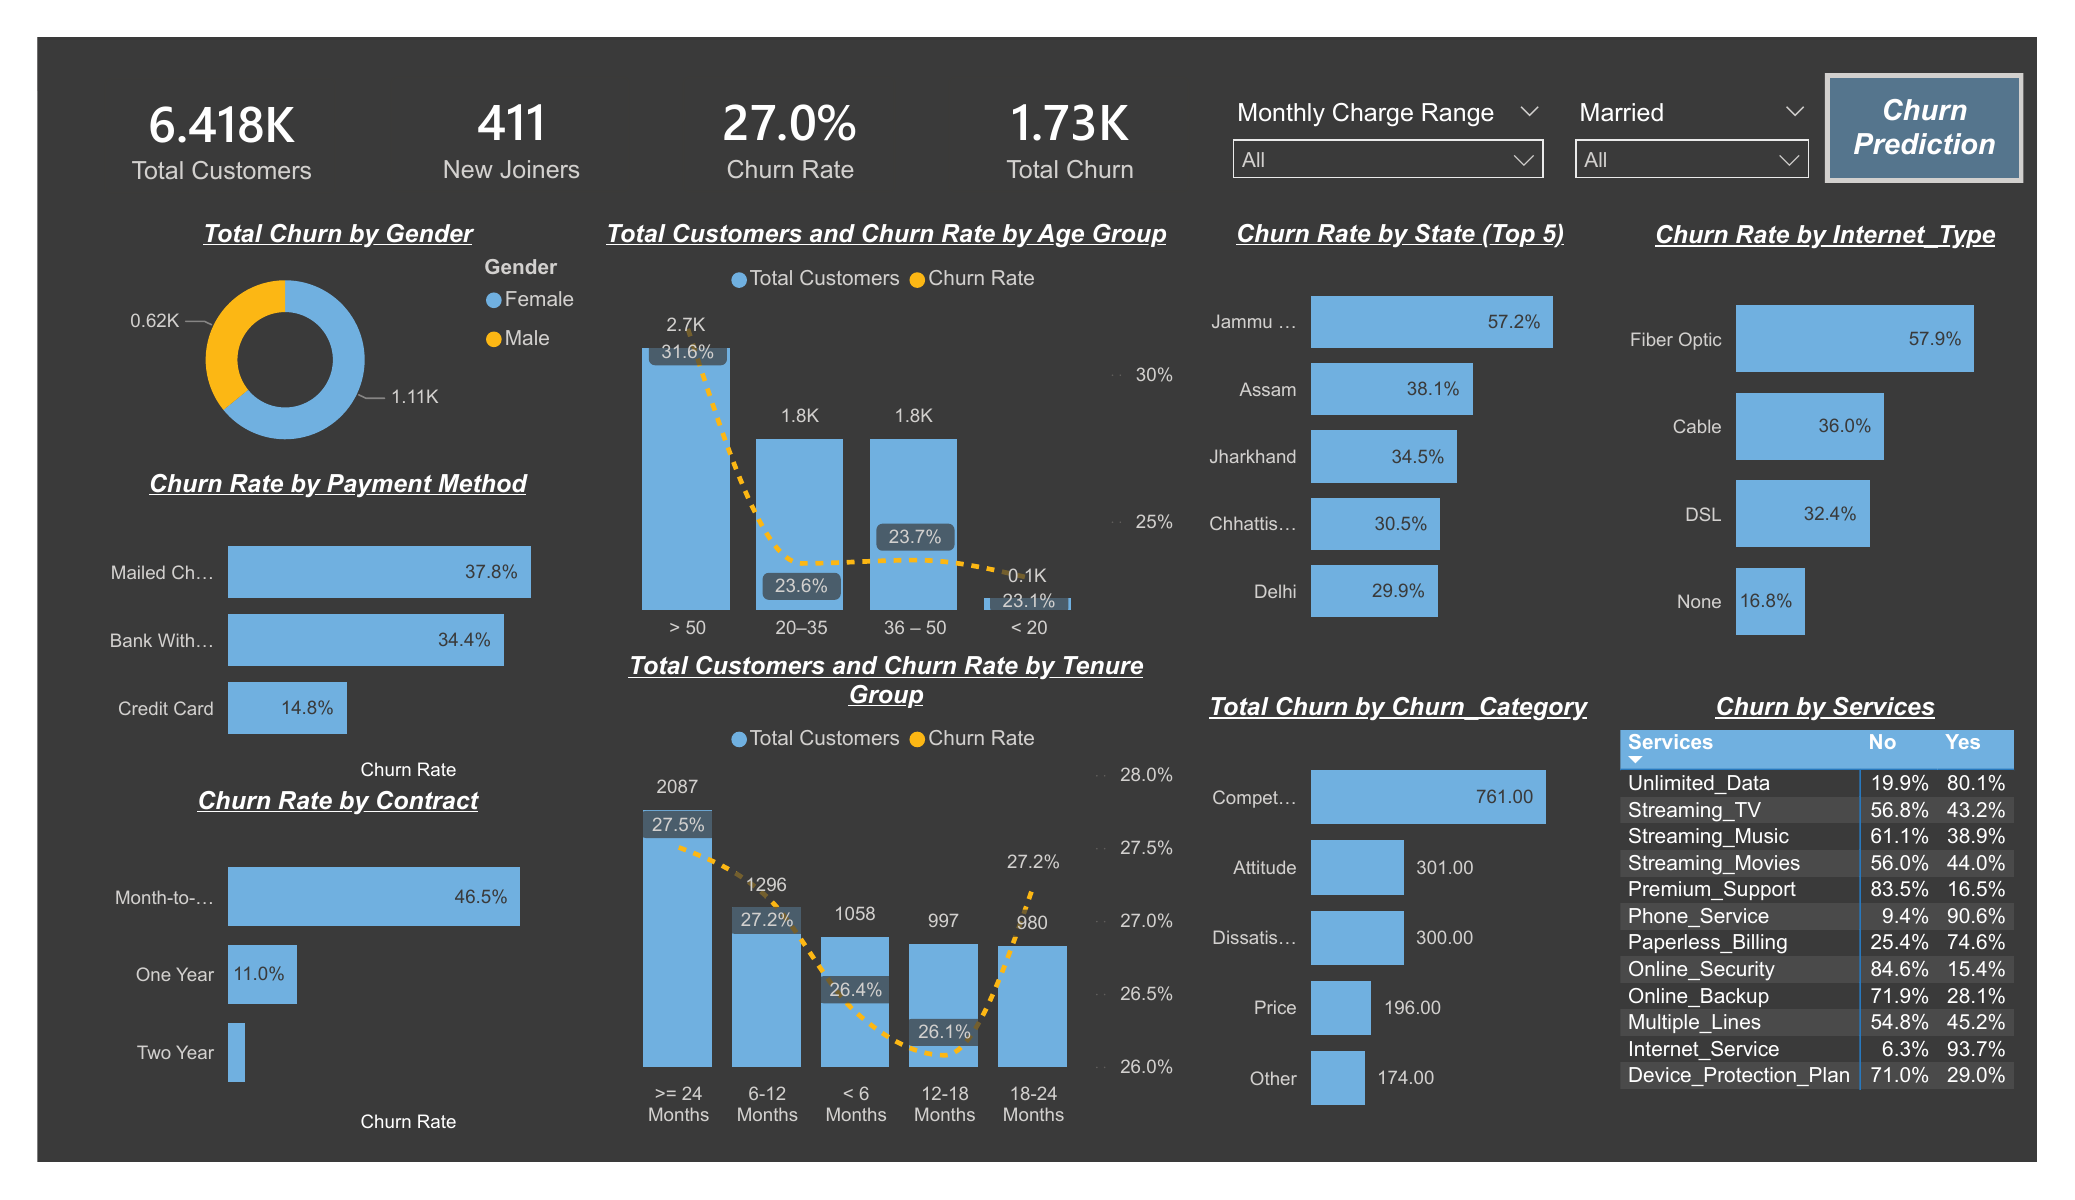

This screenshot's page, from the dashboard's own definition file:
{"tool":"powerbi","page":{"name":"Churn Analysis","canvas":[1280,720],"ordinal":0},"visuals":[{"type":"cardVisual","fields":{"Data":["Measures (2).Total Customers"]},"box":[26.2,8.8,182.5,108.8],"z":1000},{"type":"cardVisual","fields":{"Data":["Measures (2).New Joiners"]},"box":[208.8,7.5,187.5,108.8],"z":2000},{"type":"cardVisual","fields":{"Data":["Measures (2).Churn Rate"]},"box":[396.2,7.5,170,108.8],"z":3000},{"type":"cardVisual","fields":{"Data":["Measures (2).Total Churn"]},"box":[566.2,7.5,188.8,108.8],"z":4000},{"type":"donutChart","fields":{"Category":["prod_Churn.Gender"],"Y":["Measures (2).Total Churn"]},"box":[26.4,116.9,331.3,160.5],"z":5000},{"type":"lineStackedColumnComboChart","fields":{"Category":["mapping_AgeGrp.Age Group "],"Y":["Measures (2).Total Customers"],"Y2":["Measures (2).Churn Rate"]},"box":[353.1,116.9,379.5,277.4],"z":6000},{"type":"clusteredBarChart","title":"Churn Rate by Payment Method","fields":{"Category":["prod_Churn.Payment_Method"],"Y":["Measures (2).Churn Rate"]},"box":[26.4,277.4,331.3,202.9],"z":7000},{"type":"clusteredBarChart","fields":{"Y":["Measures (2).Churn Rate"],"Category":["prod_Churn.Contract"]},"box":[26.4,480.4,331.3,224.7],"z":8000},{"type":"lineStackedColumnComboChart","fields":{"Y":["Measures (2).Total Customers"],"Y2":["Measures (2).Churn Rate"],"Category":["mapping_TenureGrp.Tenure Group "]},"box":[353.1,394.4,379.5,310.7],"z":9000},{"type":"clusteredBarChart","title":"Churn Rate by State (Top 5)","fields":{"Y":["Measures (2).Churn Rate"],"Category":["prod_Churn.State"]},"box":[732.6,116.9,278.6,277.4],"z":10000},{"type":"clusteredBarChart","fields":{"Category":["prod_Churn.Churn_Category"],"Y":["Measures (2).Total Churn"]},"box":[732.6,419.6,275.1,287.8],"z":11000},{"type":"pivotTable","title":"Churn by Services","fields":{"Rows":["prod_Services.Services"],"Columns":["prod_Services.Status"],"Values":["Sum(prod_Services.Churn Status)"]},"box":[1007.5,420,272.5,278.8],"z":12000},{"type":"clusteredBarChart","fields":{"Y":["Measures (2).Churn Rate"],"Category":["prod_Churn.Internet_Type"]},"box":[1007.5,117.5,272.5,293.8],"z":13000},{"type":"slicer","fields":{"Values":["prod_Churn.Monthly Charge Status"]},"box":[755,35,218.8,57.5],"z":14000},{"type":"slicer","fields":{"Values":["prod_Churn.Married"]},"box":[973.8,35,170,57.5],"z":15000},{"type":"actionButton","box":[1143.8,22.5,127.5,70],"z":15001}]}

Visuals, with their boxes on the page's 1280x720 design canvas (x1, y1, x2, y2). These are canvas units, not pixel positions in the 2075x1200 screenshot, which may show the page scaled, cropped or inside an application window:
cardVisual - Measures (2).Total Customers: [x1=26, y1=9, x2=209, y2=118]
cardVisual - Measures (2).New Joiners: [x1=209, y1=8, x2=396, y2=116]
cardVisual - Measures (2).Churn Rate: [x1=396, y1=8, x2=566, y2=116]
cardVisual - Measures (2).Total Churn: [x1=566, y1=8, x2=755, y2=116]
donutChart - prod_Churn.Gender x Measures (2).Total Churn: [x1=26, y1=117, x2=358, y2=277]
lineStackedColumnComboChart - mapping_AgeGrp.Age Group  x Measures (2).Total Customers: [x1=353, y1=117, x2=733, y2=394]
"Churn Rate by Payment Method" clusteredBarChart: [x1=26, y1=277, x2=358, y2=480]
clusteredBarChart - Measures (2).Churn Rate x prod_Churn.Contract: [x1=26, y1=480, x2=358, y2=705]
lineStackedColumnComboChart - Measures (2).Total Customers x Measures (2).Churn Rate: [x1=353, y1=394, x2=733, y2=705]
"Churn Rate by State (Top 5)" clusteredBarChart: [x1=733, y1=117, x2=1011, y2=394]
clusteredBarChart - prod_Churn.Churn_Category x Measures (2).Total Churn: [x1=733, y1=420, x2=1008, y2=707]
"Churn by Services" pivotTable: [x1=1008, y1=420, x2=1280, y2=699]
clusteredBarChart - Measures (2).Churn Rate x prod_Churn.Internet_Type: [x1=1008, y1=118, x2=1280, y2=411]
slicer - prod_Churn.Monthly Charge Status: [x1=755, y1=35, x2=974, y2=92]
slicer - prod_Churn.Married: [x1=974, y1=35, x2=1144, y2=92]
actionButton: [x1=1144, y1=22, x2=1271, y2=92]
